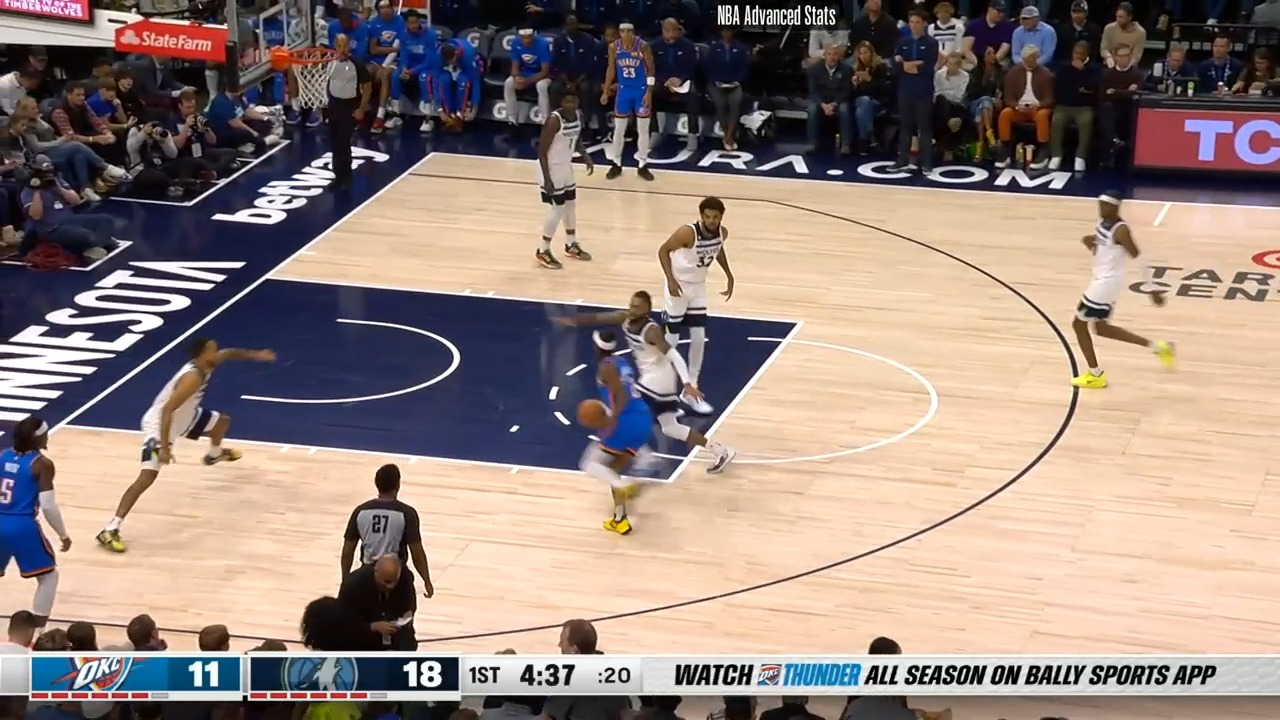net: (268, 42, 342, 105)
player: (103, 331, 285, 554), (561, 286, 741, 481), (1067, 198, 1177, 395), (577, 321, 666, 540), (658, 193, 741, 416), (1, 416, 74, 644), (537, 91, 596, 276), (594, 18, 655, 186)
referee: (343, 465, 440, 652), (314, 33, 371, 196)
